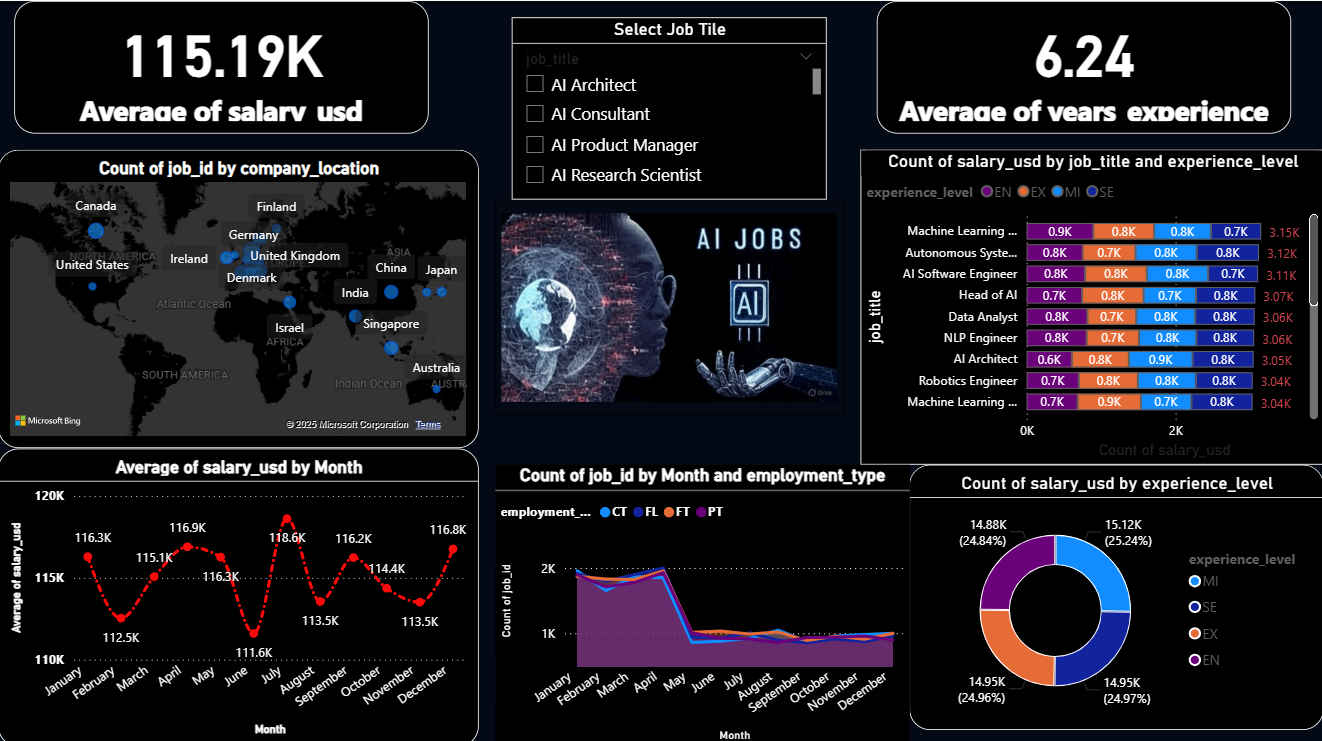

The dashboard page shown, as its layout file describes it:
{"tool":"powerbi","page":{"name":"Page 1","canvas":[1280,720],"ordinal":0},"visuals":[{"type":"map","fields":{"Category":["ai_job_dataset2.company_location"],"Size":["CountNonNull(ai_job_dataset2.job_id)"]},"box":[0,144,464,288],"z":0},{"type":"image","box":[480,192,336,208],"z":1000},{"type":"barChart","fields":{"Category":["ai_job_dataset2.job_title"],"Series":["ai_job_dataset2.experience_level"],"Y":["CountNonNull(ai_job_dataset2.salary_usd)"]},"box":[832,144,448,304],"z":2000},{"type":"donutChart","fields":{"Category":["ai_job_dataset2.experience_level"],"Y":["CountNonNull(ai_job_dataset2.salary_usd)"]},"box":[880,448,400,256],"z":3000},{"type":"areaChart","fields":{"Series":["ai_job_dataset2.employment_type"],"Y":["CountNonNull(ai_job_dataset2.job_id)"],"Category":["ai_job_dataset2.posting_date.Variation.Date Hierarchy.Month"]},"box":[480,448,400,272],"z":4000},{"type":"lineChart","fields":{"Category":["ai_job_dataset2.posting_date.Variation.Date Hierarchy.Month"],"Y":["Avg(ai_job_dataset2.salary_usd)"]},"box":[0,432,464,288],"z":5000},{"type":"slicer","title":"Select Job Tile","fields":{"Values":["ai_job_dataset2.job_title"]},"box":[496,16,304,176],"z":6000},{"type":"card","fields":{"Values":["Avg(ai_job_dataset2.years_experience)"]},"box":[848,0,400,128],"z":6002},{"type":"card","fields":{"Values":["Avg(ai_job_dataset2.salary_usd)"]},"box":[16,0,400,128],"z":6003}]}

Visuals, with their boxes in screenshot pixels (x1, y1, x2, y2), scaled from the page's 1280x720 canvas onto the 1322x741 screenshot:
map - ai_job_dataset2.company_location x CountNonNull(ai_job_dataset2.job_id): l=0, t=148, r=479, b=445
image: l=496, t=198, r=843, b=412
barChart - ai_job_dataset2.job_title x ai_job_dataset2.experience_level: l=859, t=148, r=1321, b=461
donutChart - ai_job_dataset2.experience_level x CountNonNull(ai_job_dataset2.salary_usd): l=909, t=461, r=1321, b=725
areaChart - ai_job_dataset2.employment_type x CountNonNull(ai_job_dataset2.job_id): l=496, t=461, r=909, b=740
lineChart - ai_job_dataset2.posting_date.Variation.Date Hierarchy.Month x Avg(ai_job_dataset2.salary_usd): l=0, t=445, r=479, b=740
"Select Job Tile" slicer: l=512, t=16, r=826, b=198
card - Avg(ai_job_dataset2.years_experience): l=876, t=0, r=1289, b=132
card - Avg(ai_job_dataset2.salary_usd): l=17, t=0, r=430, b=132
